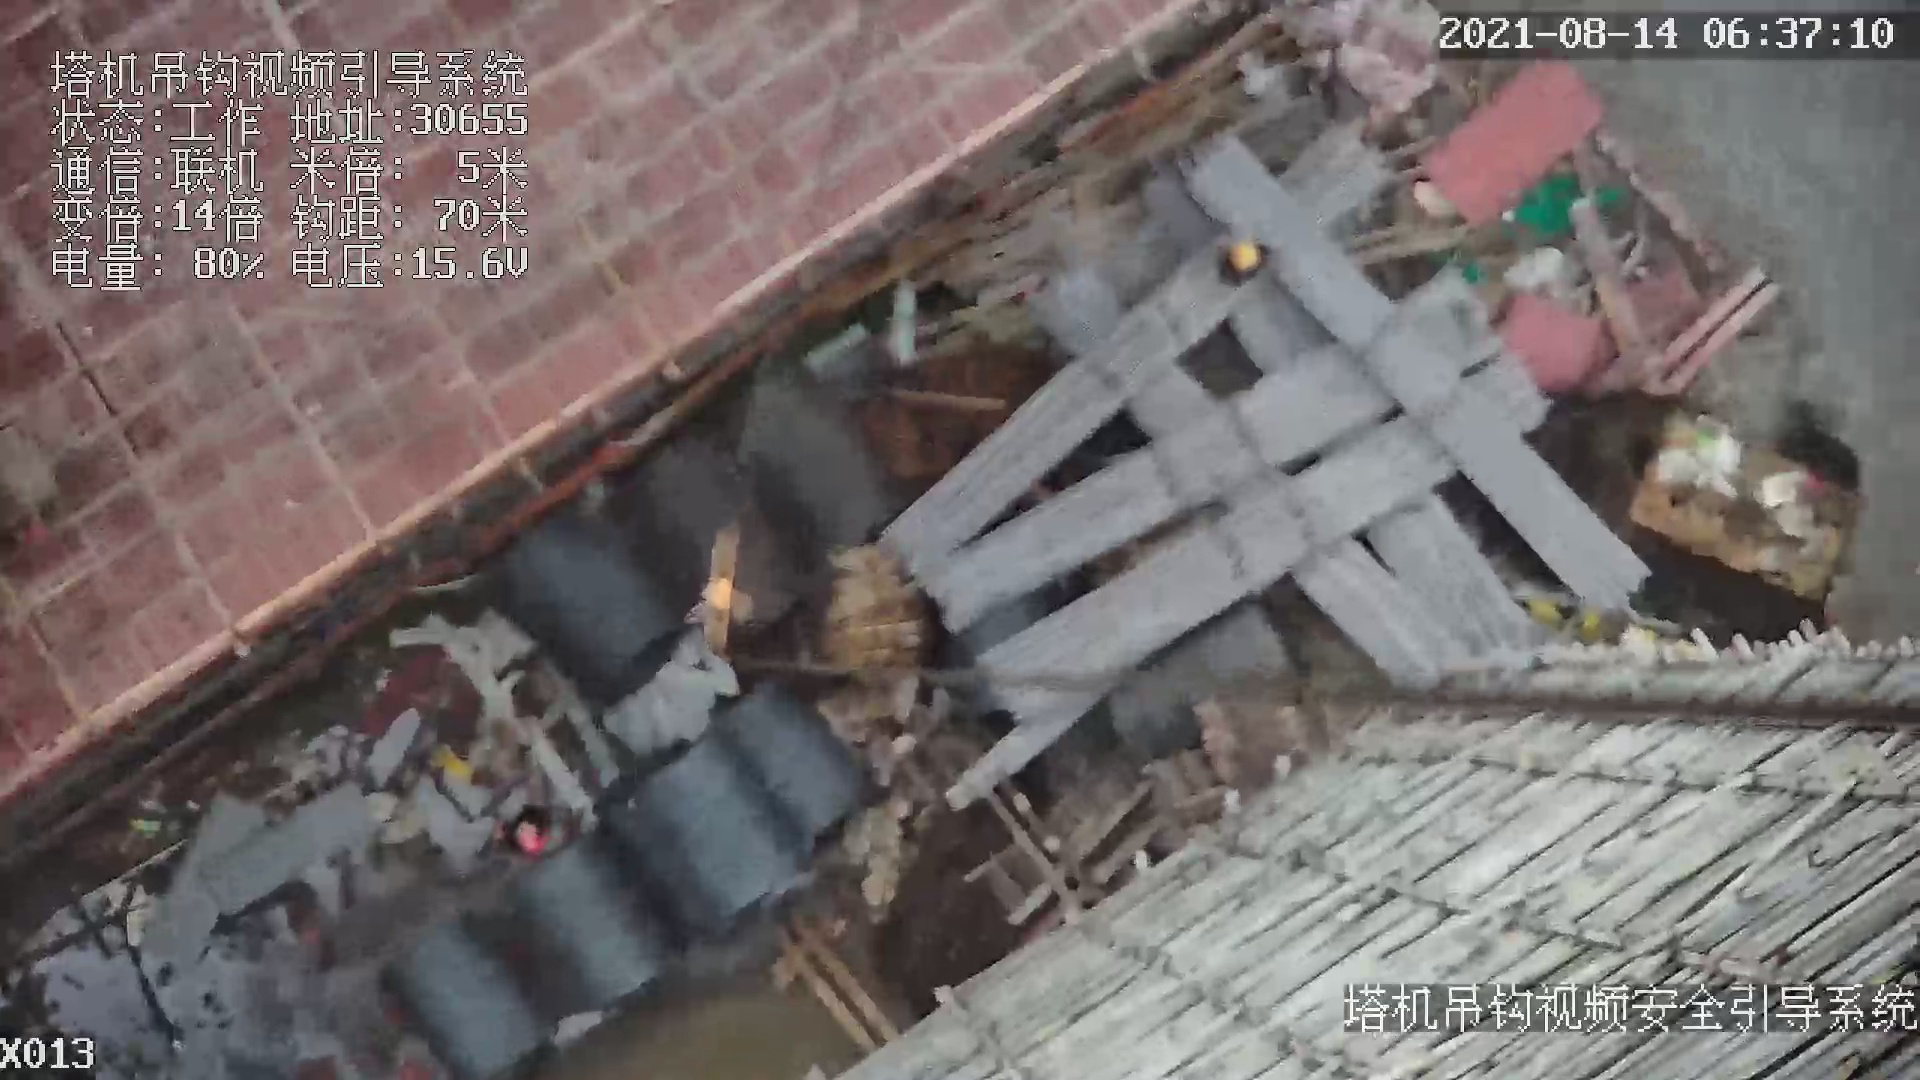helmet: (1231, 242, 1262, 271)
hook: (699, 522, 751, 656)
person: (490, 794, 560, 860), (1210, 233, 1276, 287)
